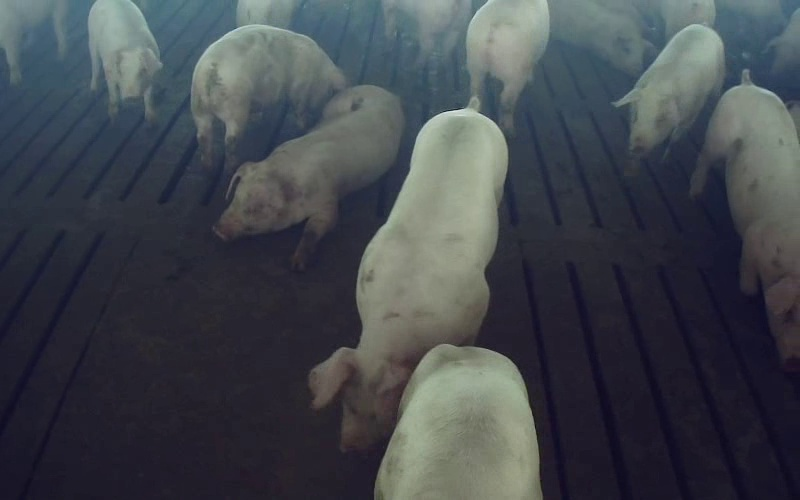pig: (310, 98, 507, 448), (213, 85, 403, 268), (691, 70, 799, 370), (375, 344, 541, 499), (191, 25, 345, 174), (612, 24, 724, 159), (88, 0, 161, 122)
